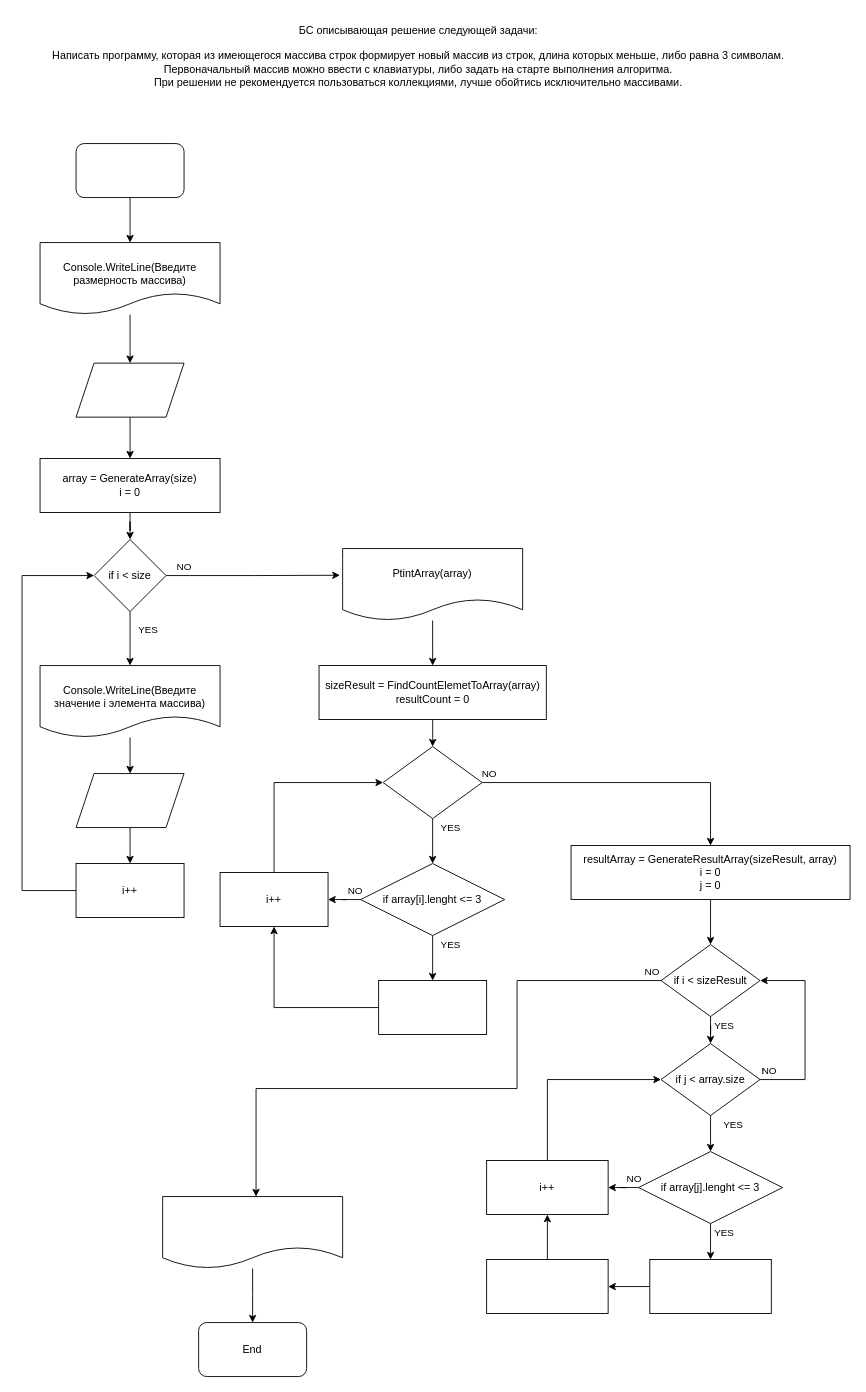
Some shapes in this 866 by 1392 pixel diagram are drawn without their labels. Here are the shapes that lost their labels. From the top down, the centre of each, then its label:
the point at 129,170: Start
the point at 129,389: size
the point at 129,800: array[i]
the point at 432,782: if i < array.size
the point at 432,1007: resultCount ++
the point at 252,1232: PtintArray(resultArray)
the point at 547,1286: j++
the point at 710,1286: resultArray[j] = array[i]
